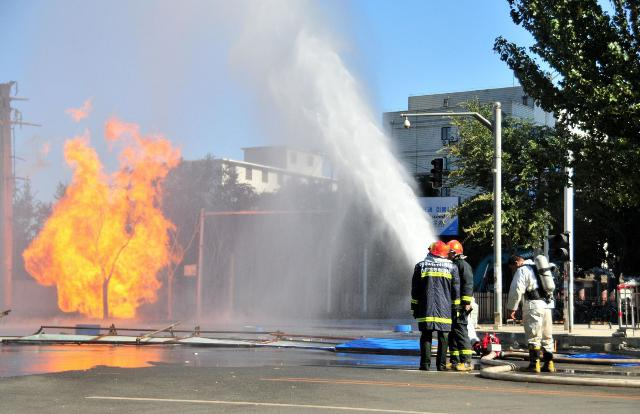fire: (49, 200, 125, 254), (56, 257, 102, 317), (128, 205, 168, 269), (24, 228, 56, 284), (120, 144, 168, 176), (108, 255, 132, 318), (109, 175, 161, 203), (70, 166, 108, 200), (129, 269, 155, 303), (67, 136, 91, 164), (106, 117, 124, 139)
